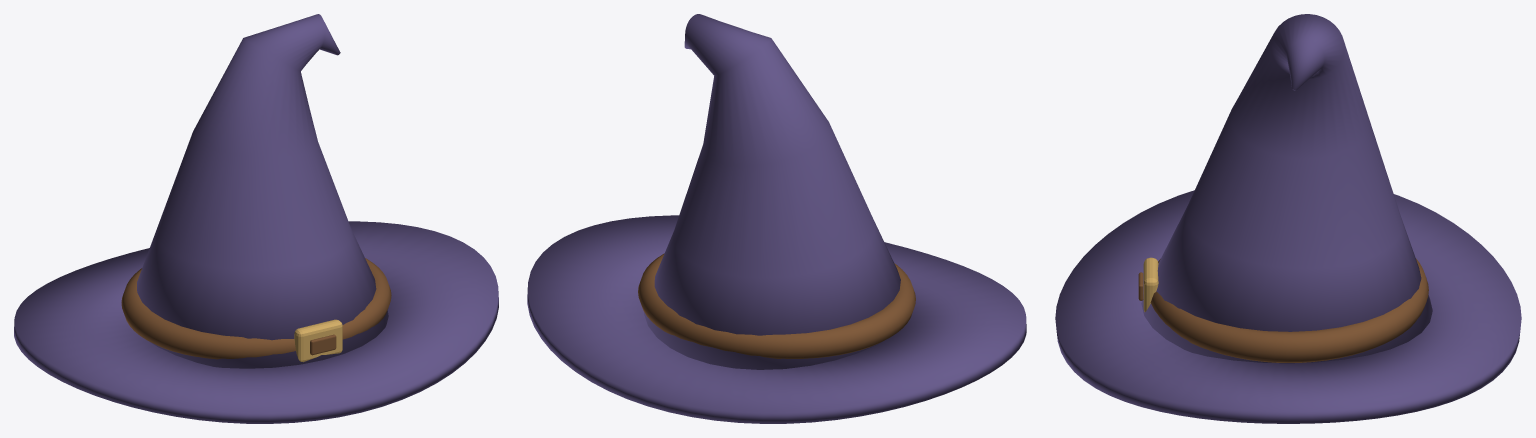
The model's file is wizard-hat.glb.
3 views of the same model, side by side, from view 1: azimuth 30°, elevation 25°; view 2: azimuth 150°, elevation 25°; view 3: azimuth 270°, elevation 25° (orthographic). The views are drawn at different scales.
Parts seen in each view (by area): view 1: Folded tapered crown, Broad shaped brim, Leather hatband, Brass buckle; view 2: Folded tapered crown, Broad shaped brim, Leather hatband; view 3: Folded tapered crown, Broad shaped brim, Leather hatband, Brass buckle.
Boxes of the visible parts, x1,y1,x2,y2 form: Folded tapered crown: (137,14,388,368); Broad shaped brim: (14,221,498,423); Leather hatband: (121,258,391,359); Brass buckle: (294,319,342,362); Folded tapered crown: (644,14,900,369); Broad shaped brim: (527,215,1026,423); Leather hatband: (638,253,915,358); Folded tapered crown: (1141,14,1432,363); Broad shaped brim: (1055,190,1521,423); Leather hatband: (1150,258,1428,362); Brass buckle: (1143,257,1158,311).
Size of the model in its own units: 1.44 by 0.9345 by 1.2.
